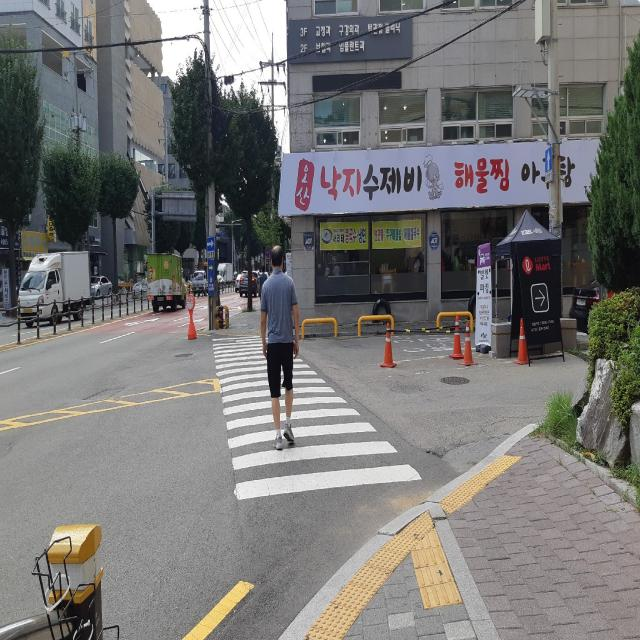횡단보도: (210, 334, 423, 502)
